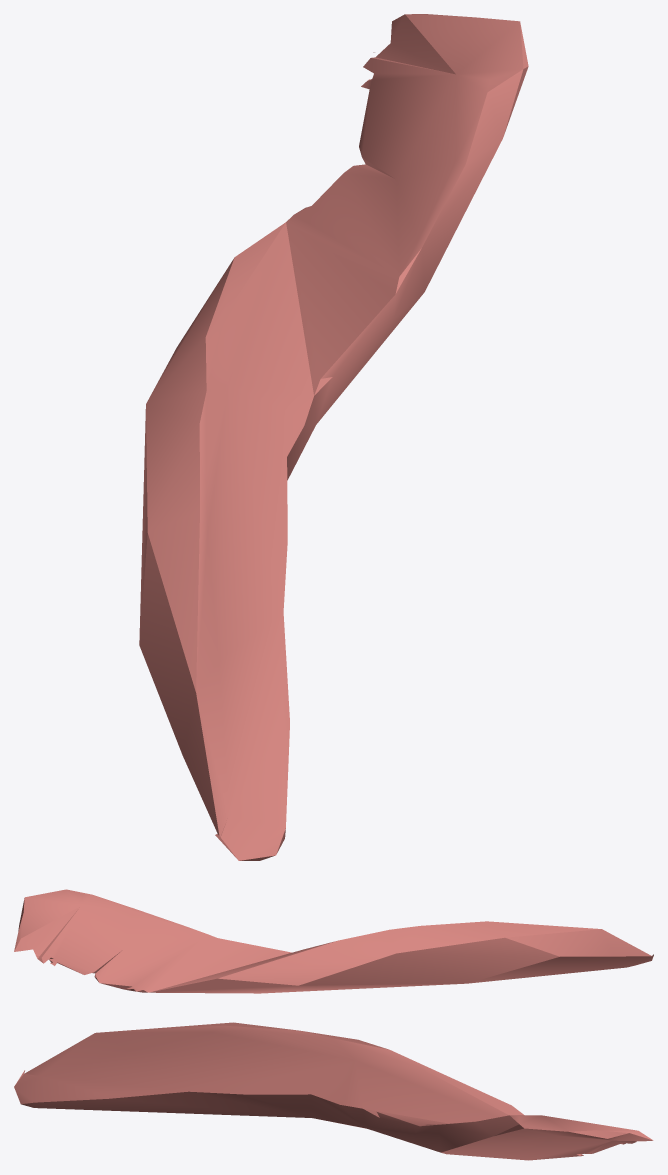
Rendered from fma86034_fj1399.glb.
3 views of the same model, one above another, from view 1: azimuth 30°, elevation 25°; view 2: azimuth 150°, elevation 25°; view 3: azimuth 270°, elevation 25° (orthographic). The views are drawn at different scales.
Parts seen in each view (by area): view 1: FMA86034_FJ1399; view 2: FMA86034_FJ1399; view 3: FMA86034_FJ1399.
Boxes of the visible parts, left/top/right/bottom form: FMA86034_FJ1399: left=139, top=14, right=528, bottom=860; FMA86034_FJ1399: left=14, top=889, right=653, bottom=993; FMA86034_FJ1399: left=14, top=1022, right=653, bottom=1160.
Size of the model in its own units: 0.0294 by 0.0111 by 0.0366.
